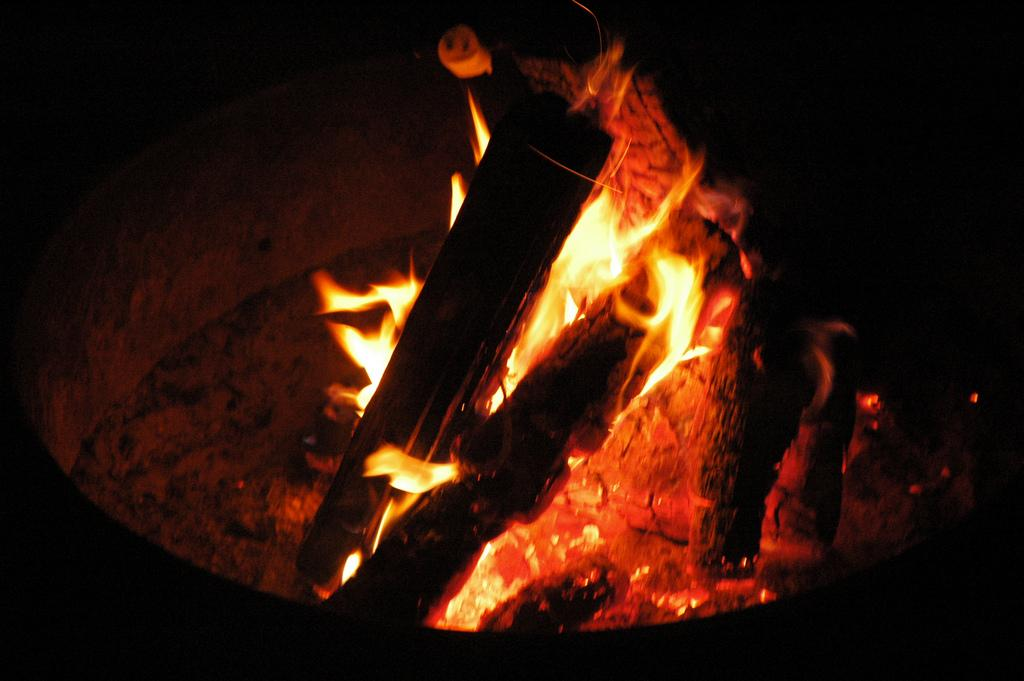fire: (565, 203, 638, 297), (658, 257, 697, 355), (353, 320, 407, 370), (377, 447, 442, 488)
